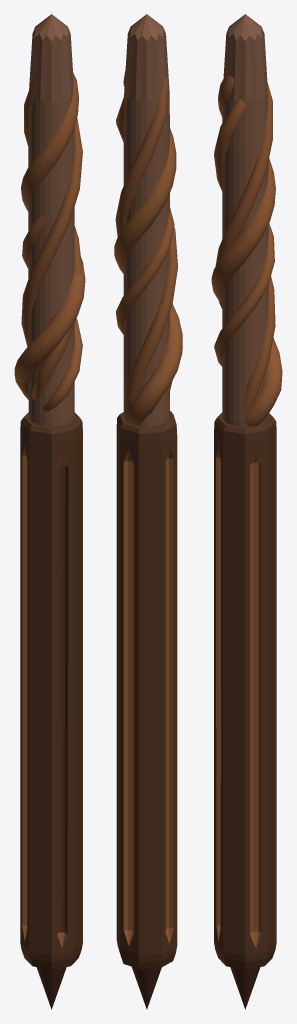
The model's file is Wand 572.glb.
The picture shows the model from 3 angles, left to right: view 1: azimuth 90°, elevation 25°; view 2: azimuth 210°, elevation 25°; view 3: azimuth 270°, elevation 25°; orthographic projection.
Parts seen in each view (by area): view 1: GeneratedWand; view 2: GeneratedWand; view 3: GeneratedWand.
Part boxes in pixels (x1=…): GeneratedWand: x1=14, y1=14, x2=85, y2=1009; GeneratedWand: x1=114, y1=14, x2=182, y2=1009; GeneratedWand: x1=211, y1=14, x2=282, y2=1009.
Size of the model in its own units: 0.0315 by 0.5071 by 0.0328.
